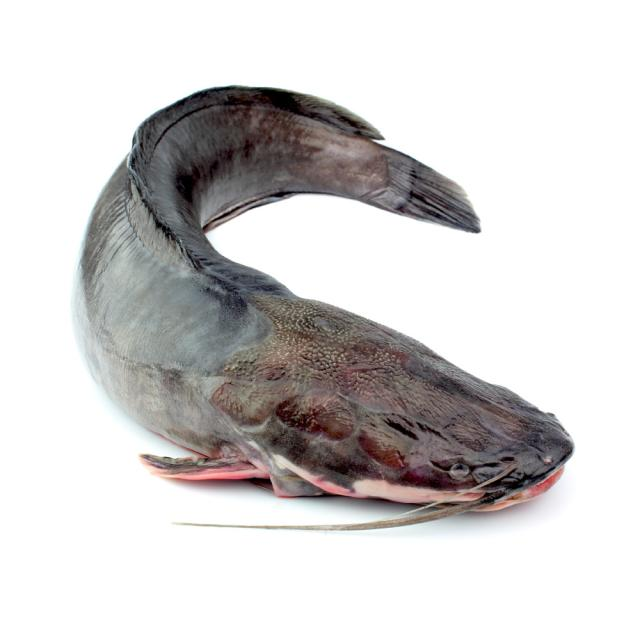Catfish: (75, 78, 578, 534)
